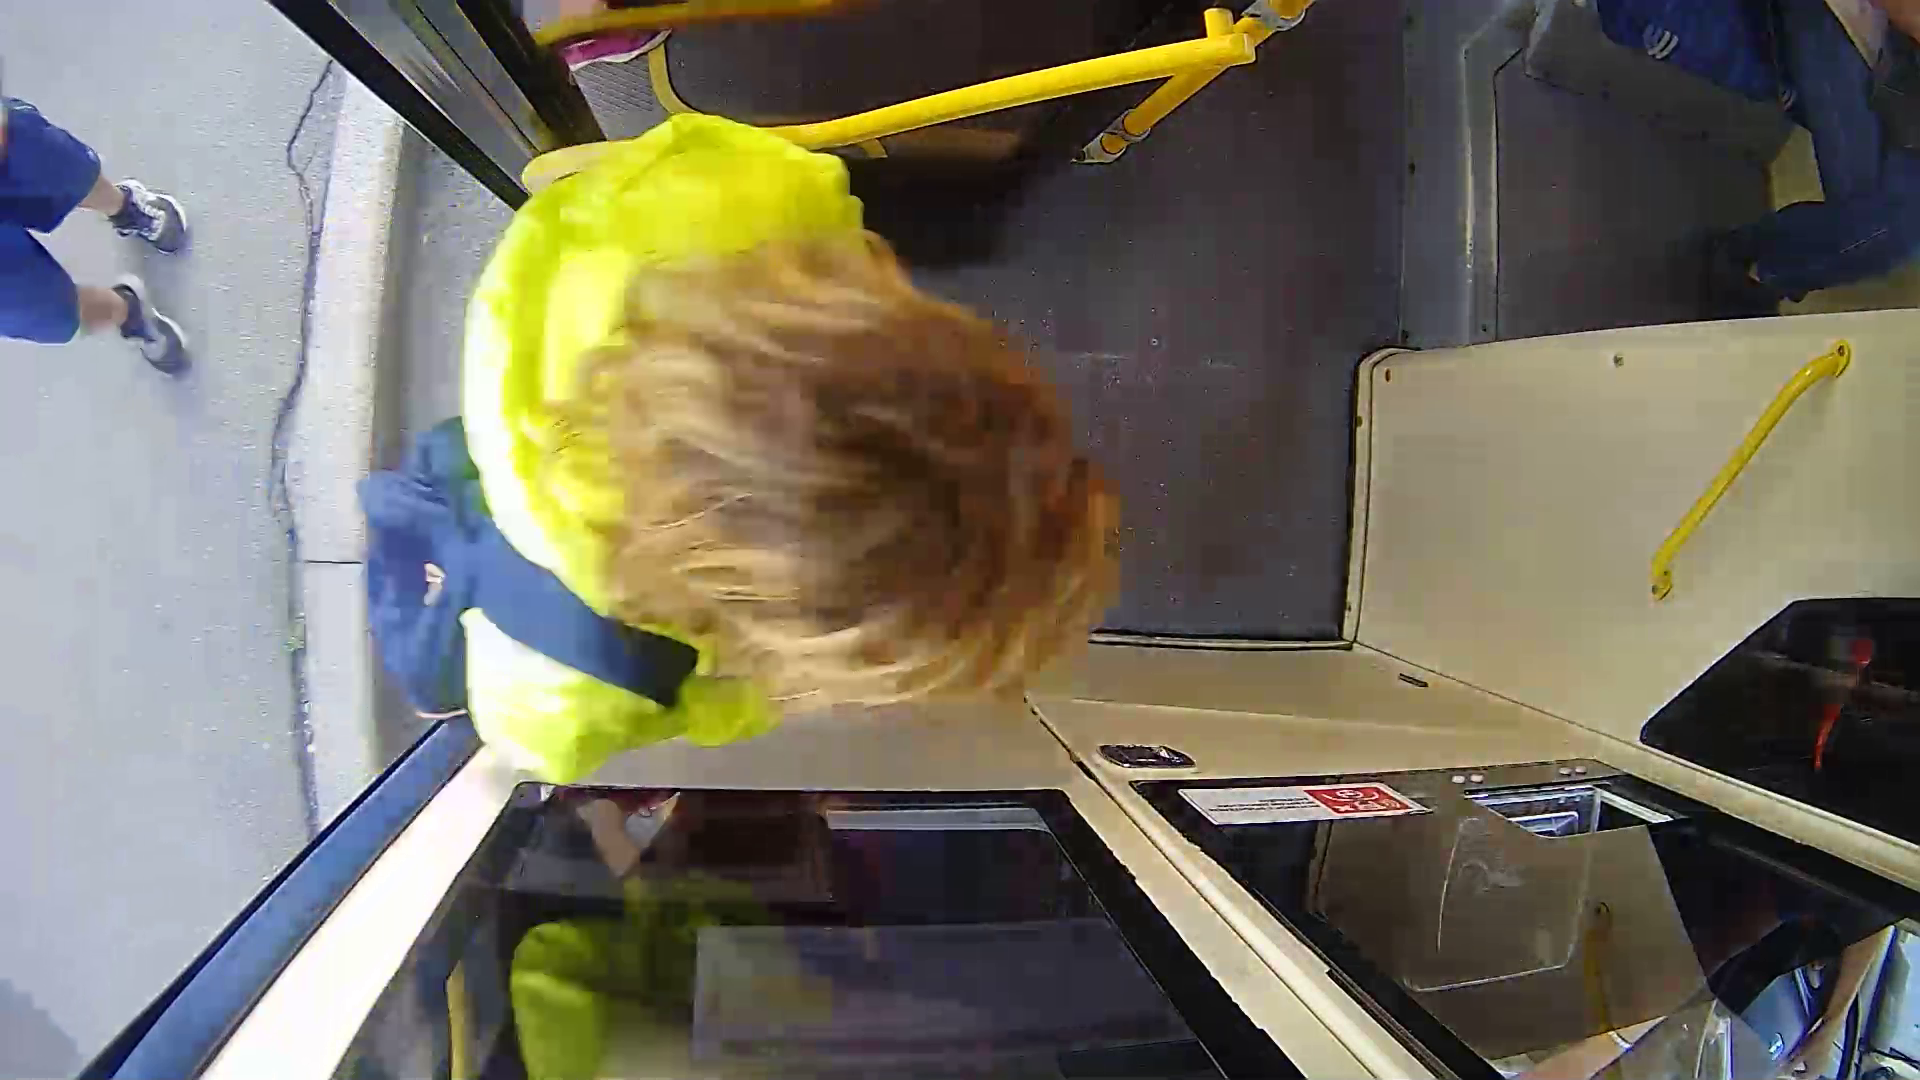person: (365, 113, 1206, 795)
